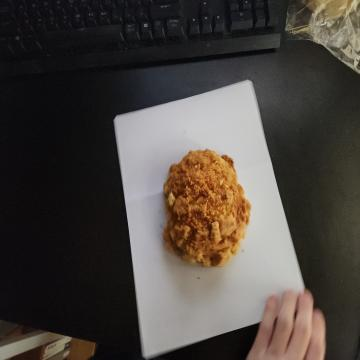soboru_bread: (160, 150, 252, 270)
